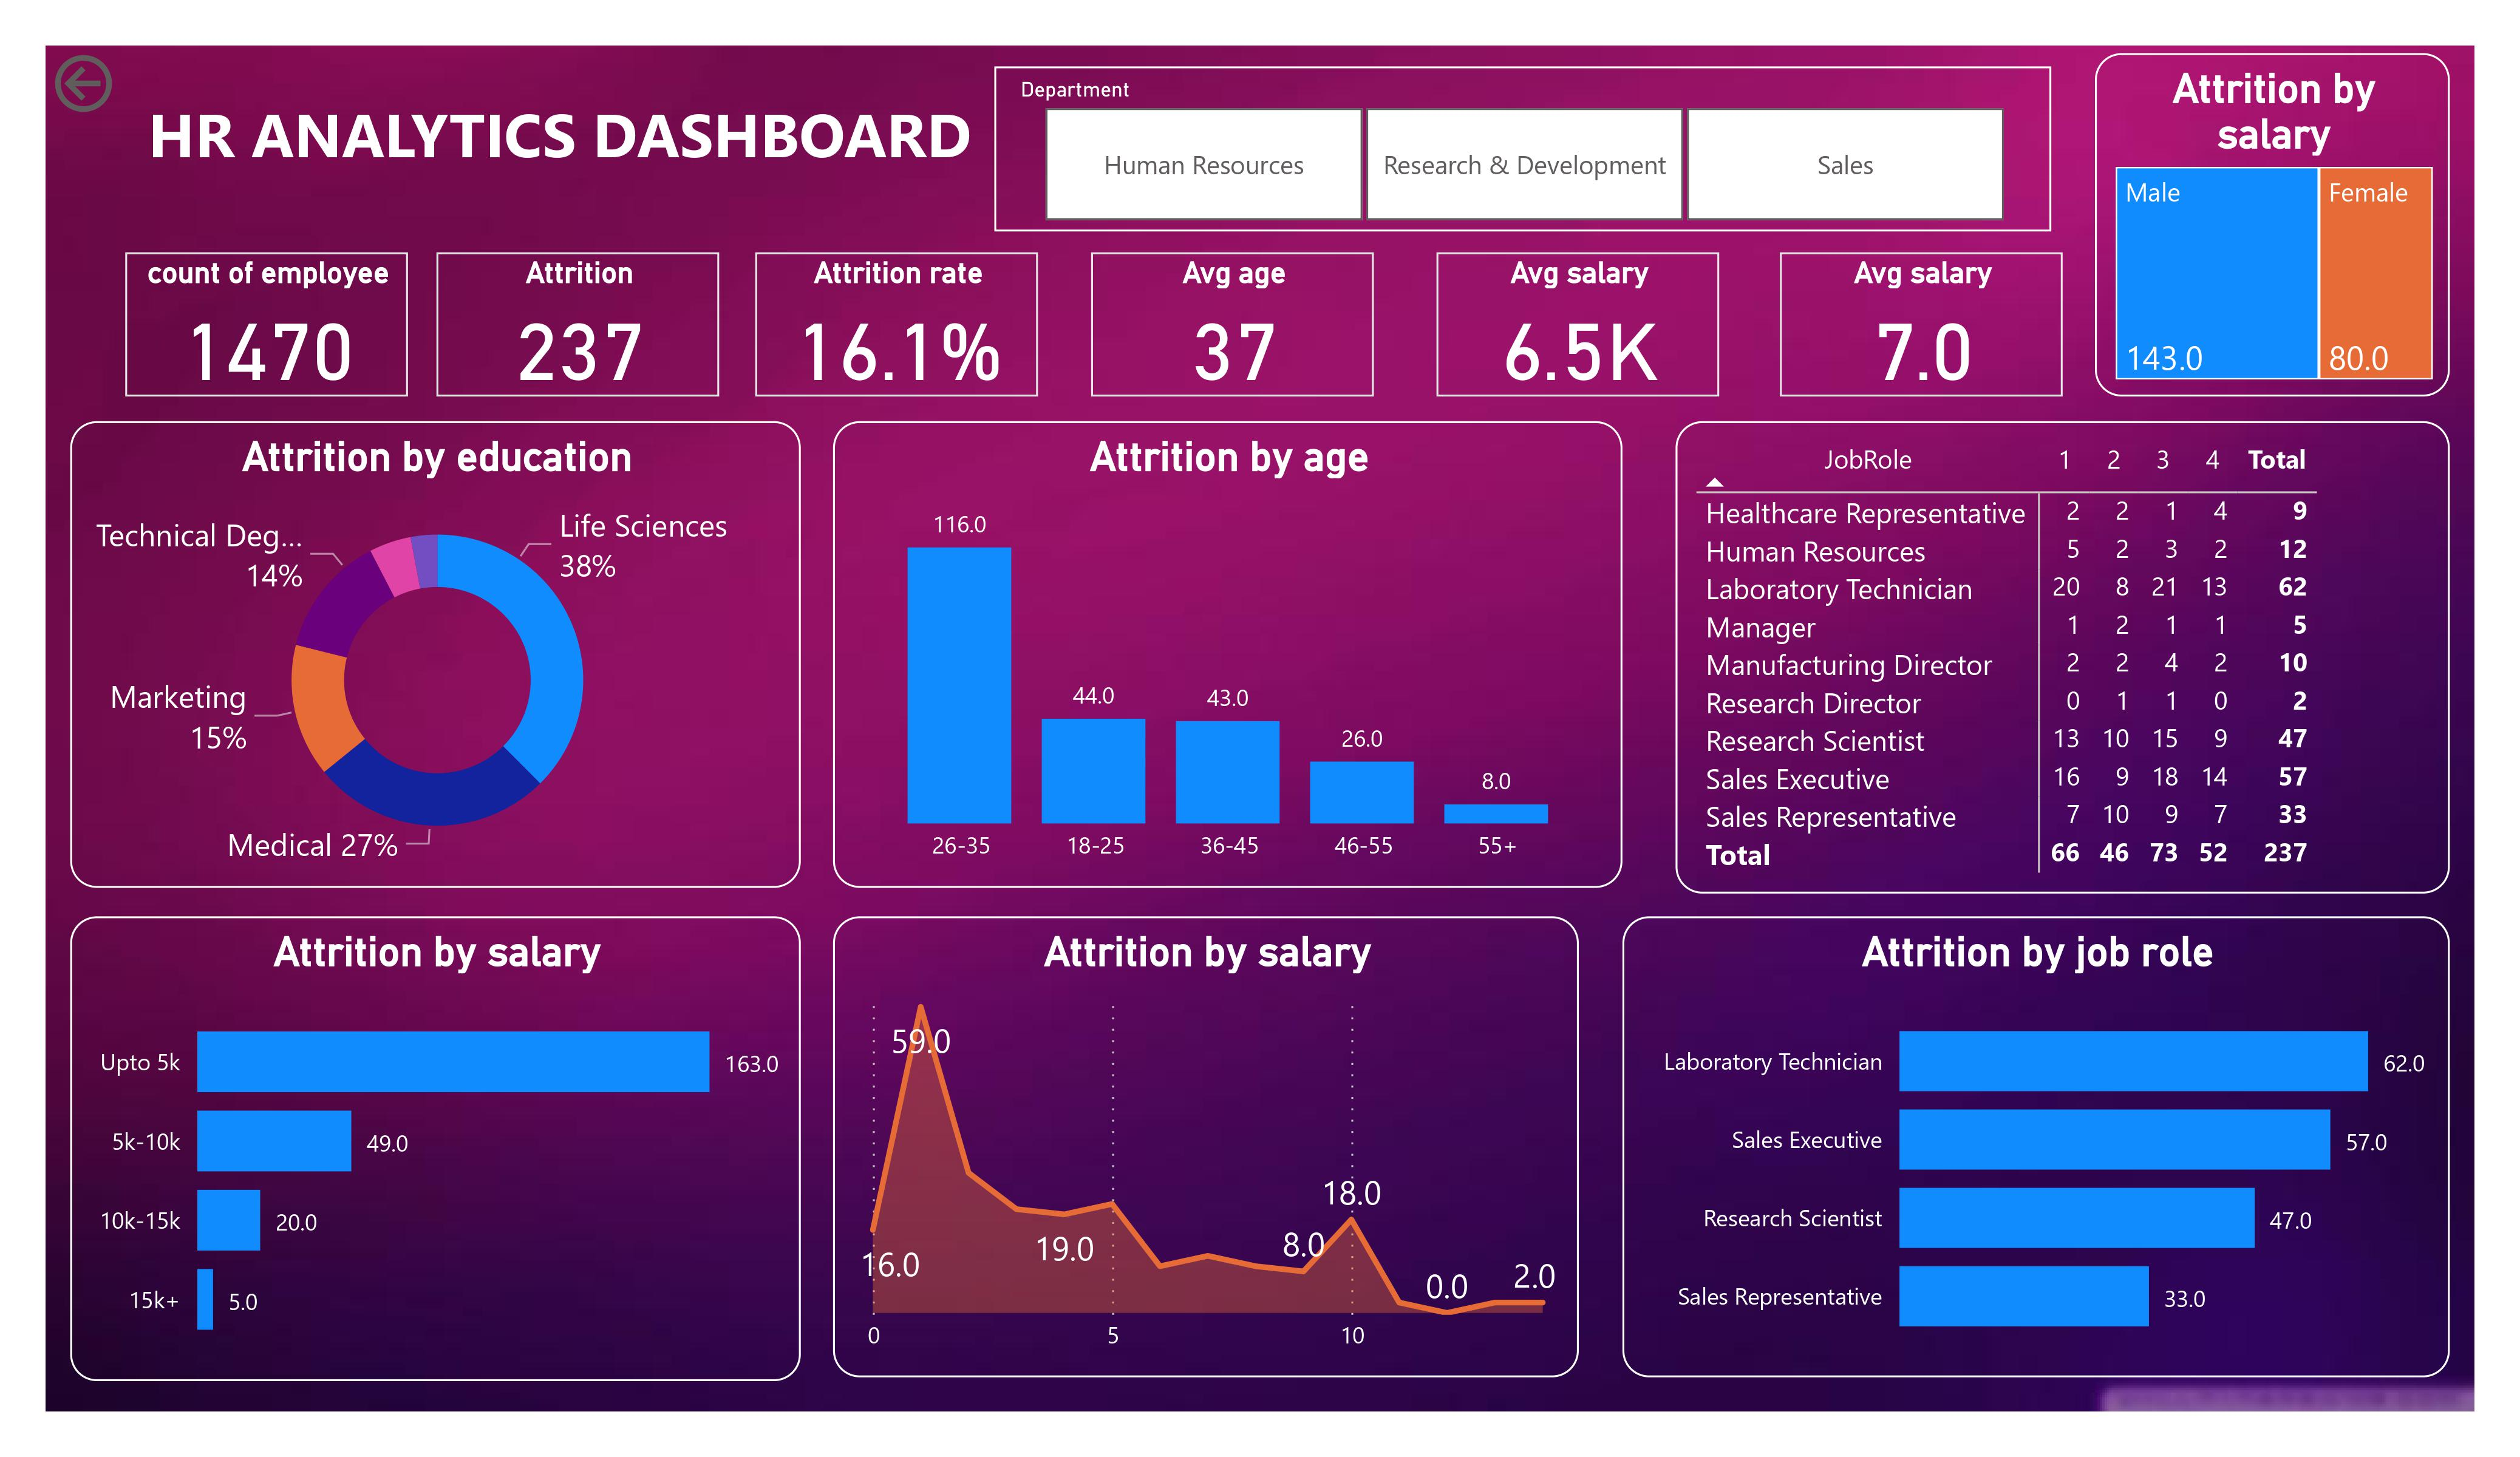

The dashboard page shown, as its layout file describes it:
{"tool":"powerbi","page":{"name":"Page 1","canvas":[1280,720],"ordinal":0},"visuals":[{"type":"card","title":"count of employee","fields":{"Values":["Count(HR_Analytics.EmpID)"]},"box":[26,110,148,76],"z":0},{"type":"card","title":"Attrition ","fields":{"Values":["Sum(HR_Analytics.attrition count)"]},"box":[190,110,148,76],"z":1000},{"type":"card","title":"Attrition rate","fields":{"Values":["HR_Analytics.attrition rate"]},"box":[356,110,148,76],"z":2000},{"type":"card","title":"Avg age","fields":{"Values":["Avg(HR_Analytics.Age)"]},"box":[522,110,148,76],"z":3000},{"type":"card","title":"Avg salary","fields":{"Values":["Avg(HR_Analytics.MonthlyIncome)"]},"box":[708,110,150,76],"z":4000},{"type":"donutChart","title":"Attrition by education","fields":{"Category":["HR_Analytics.EducationField"],"Y":["Sum(HR_Analytics.attrition count)"]},"box":[13.2,198.2,385.1,245.4],"z":5000},{"type":"actionButton","box":[0,0,100,40],"z":6000},{"type":"clusteredColumnChart","title":"Attrition by age","fields":{"Y":["Sum(HR_Analytics.attrition count)"],"Category":["HR_Analytics.AgeGroup"]},"box":[415.3,198.2,415.3,245.4],"z":7000},{"type":"pivotTable","title":"Attrition by age","fields":{"Rows":["HR_Analytics.JobRole"],"Values":["Sum(HR_Analytics.attrition count)"],"Columns":["HR_Analytics.JobSatisfaction"]},"box":[859,198.2,407.8,249.2],"z":8000},{"type":"clusteredBarChart","title":"Attrition by salary","fields":{"Category":["HR_Analytics.SalarySlab"],"Y":["Sum(HR_Analytics.attrition count)"]},"box":[13.2,458.8,385.1,245.4],"z":9000},{"type":"clusteredBarChart","title":"Attrition by job role","fields":{"Category":["HR_Analytics.JobRole"],"Y":["Sum(HR_Analytics.attrition count)"]},"box":[830,476,436,244],"z":10000},{"type":"card","title":"Avg year","fields":{"Values":["Avg(HR_Analytics.YearsAtCompany)"]},"box":[882,110,148,76],"z":11000},{"type":"areaChart","title":"Attrition by year","fields":{"Y":["Sum(HR_Analytics.attrition count)"],"Category":["HR_Analytics.YearsAtCompany"]},"box":[415.3,458.8,392.7,243.5],"z":12000},{"type":"treemap","title":"Attrition by gender","fields":{"Values":["Sum(HR_Analytics.attrition count)"],"Group":["HR_Analytics.Gender"]},"box":[1048,4,218,182],"z":13000},{"type":"slicer","fields":{"Values":["HR_Analytics.Department"]},"box":[472,10,558,86],"z":14000},{"type":"textbox","box":[14,18,458,70],"z":15000}]}

Visuals, with their boxes in screenshot pixels (x1, y1, x2, y2):
"count of employee" card: pyautogui.locateOnScreen(57, 246, 344, 394)
"Attrition " card: pyautogui.locateOnScreen(375, 246, 663, 394)
"Attrition rate" card: pyautogui.locateOnScreen(698, 246, 985, 394)
"Avg age" card: pyautogui.locateOnScreen(1020, 246, 1307, 394)
"Avg salary" card: pyautogui.locateOnScreen(1381, 246, 1672, 394)
"Attrition by education" donutChart: pyautogui.locateOnScreen(32, 418, 780, 894)
actionButton: pyautogui.locateOnScreen(7, 33, 201, 110)
"Attrition by age" clusteredColumnChart: pyautogui.locateOnScreen(813, 418, 1619, 894)
"Attrition by age" pivotTable: pyautogui.locateOnScreen(1674, 418, 2466, 902)
"Attrition by salary" clusteredBarChart: pyautogui.locateOnScreen(32, 923, 780, 1400)
"Attrition by job role" clusteredBarChart: pyautogui.locateOnScreen(1618, 957, 2465, 1430)
"Avg year" card: pyautogui.locateOnScreen(1719, 246, 2006, 394)
"Attrition by year" areaChart: pyautogui.locateOnScreen(813, 923, 1575, 1396)
"Attrition by gender" treemap: pyautogui.locateOnScreen(2042, 41, 2465, 394)
slicer - HR_Analytics.Department: pyautogui.locateOnScreen(923, 52, 2006, 219)
textbox: pyautogui.locateOnScreen(34, 68, 923, 203)
